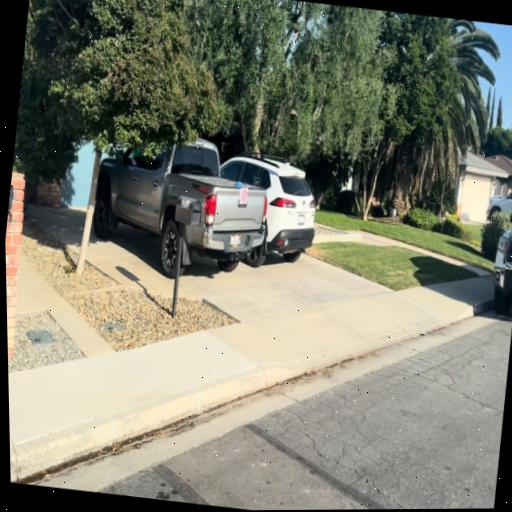bullseye: (240, 188, 248, 204)
